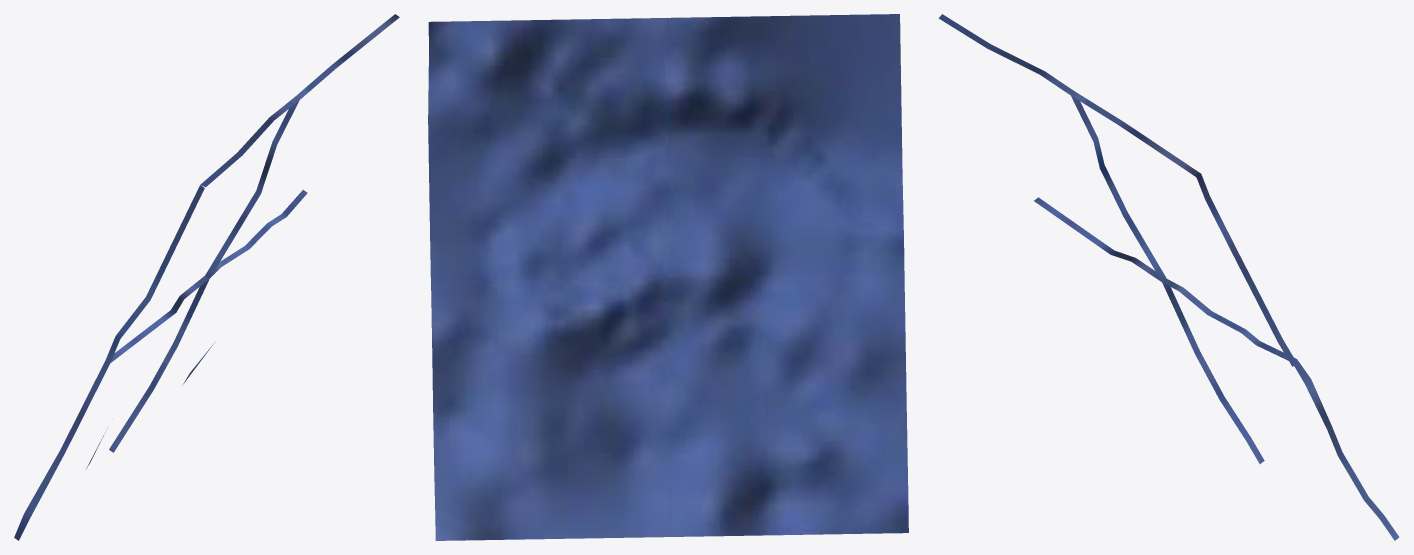
3 renders of one model, left to right at view 1: azimuth 30°, elevation 25°; view 2: azimuth 150°, elevation 25°; view 3: azimuth 270°, elevation 25°, orthographic. The views are drawn at different scales.
Bounding box in the file's own units: 19512 × 17953 × 17625.
1 material, 1 textured.
